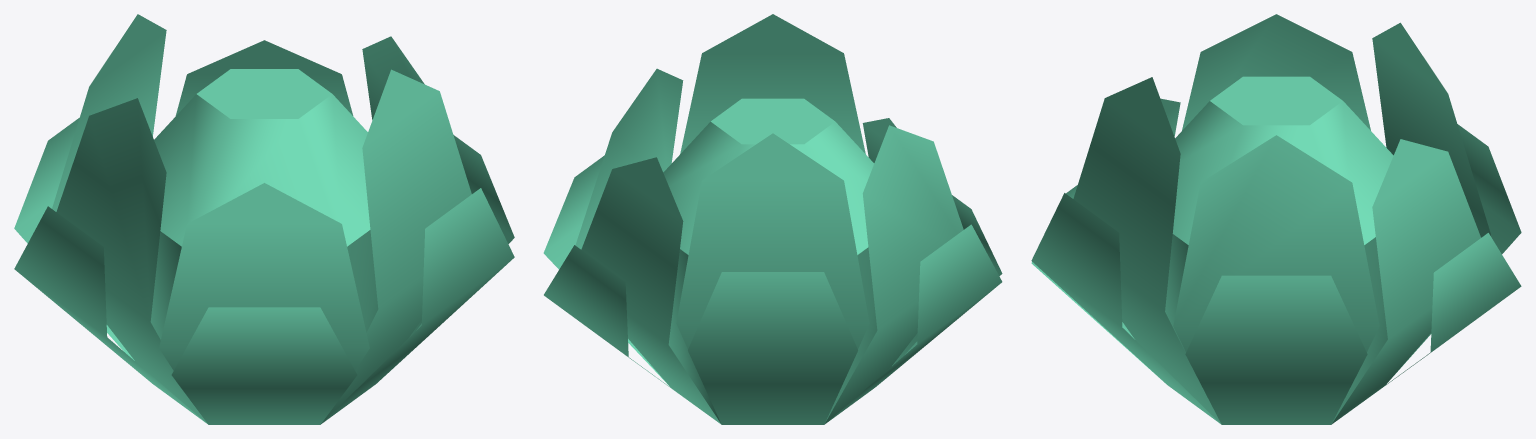
Rendered from Cabbage.glb.
3 renders of one model, left to right at view 1: azimuth 30°, elevation 25°; view 2: azimuth 150°, elevation 25°; view 3: azimuth 270°, elevation 25°, orthographic. The views are drawn at different scales.
Parts seen in each view (by area): view 1: Cabbage; view 2: Cabbage; view 3: Cabbage.
Boxes of the visible parts, x1,y1,x2,y2 form: Cabbage: (14, 14, 514, 424); Cabbage: (543, 14, 1002, 424); Cabbage: (1031, 14, 1521, 424).
Bounding box in the file's own units: 0.3794 × 0.3074 × 0.4036.
